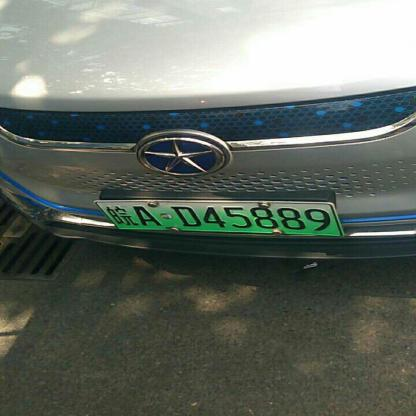lp: (95, 202, 341, 234)
